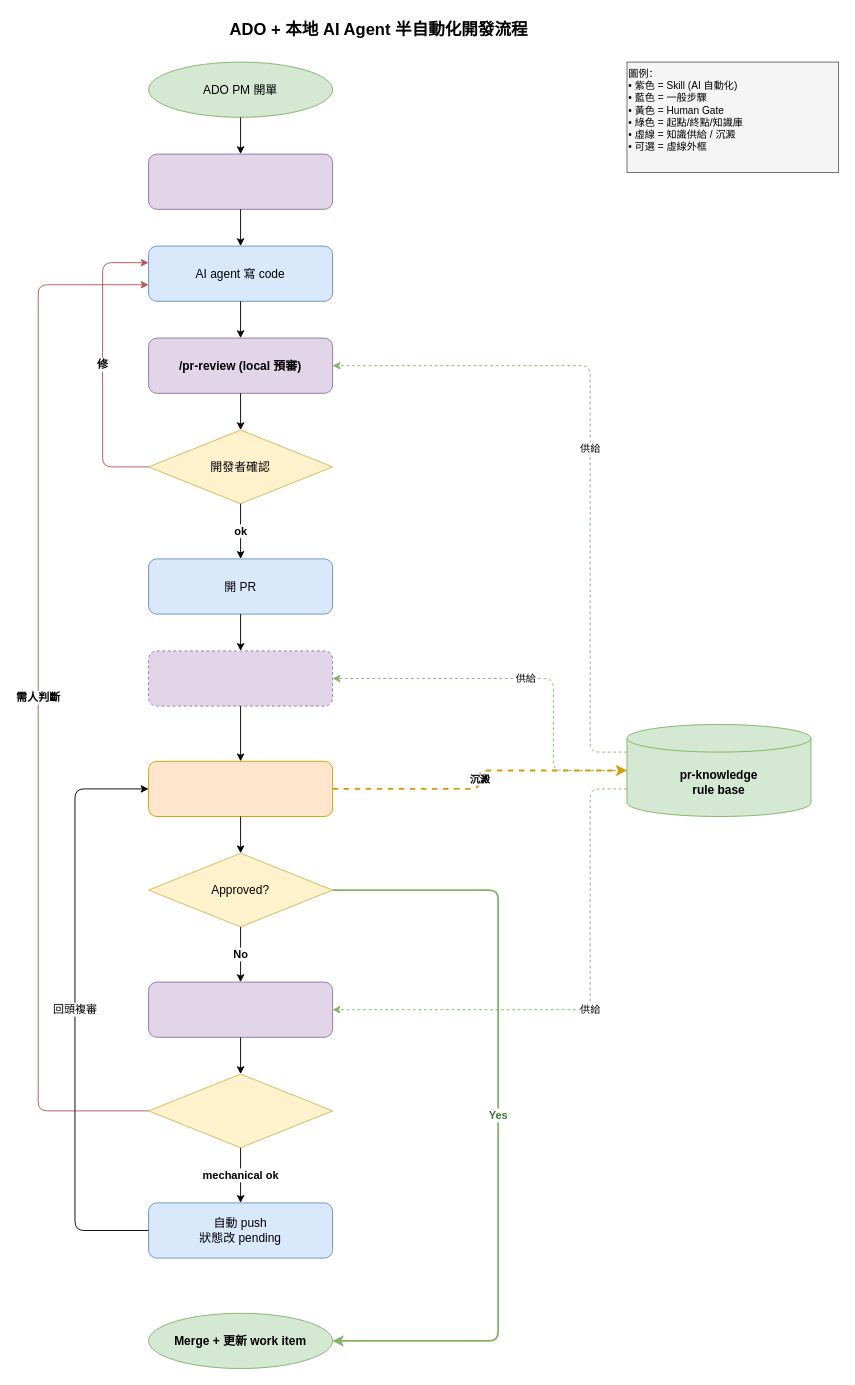
This 855x1385 diagram has some shape labels left out. The shapes that lost their labels are listed below. From the top down, each one's box as (x1, y1, x2, y2) in pixels, then its label:
(148, 153, 333, 209): /接單 (context 打包)
(148, 650, 333, 706): /pr-review (ADO 審閱，可選)
(148, 760, 333, 816): Reviewer 留 comment
(148, 981, 333, 1037): /pr-auto-fix
(148, 1073, 333, 1148): 人 gate 審 patch
